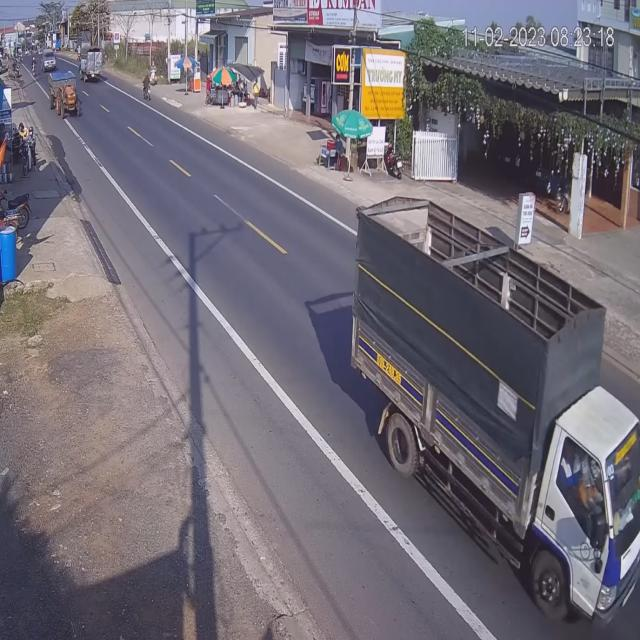truck: (353, 198, 640, 627), (82, 48, 104, 82)
